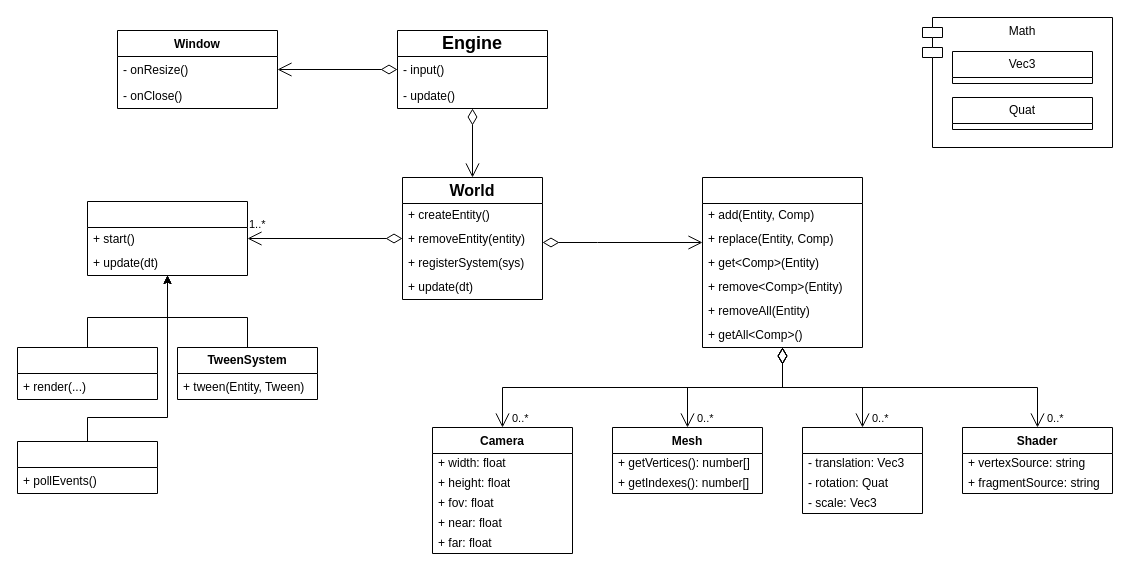
This 1130x571 diagram has some shape labels left out. The box of each missing label's shape, as (x1, y1, x2, y2) in pixels:
ComponentRegistry: (702, 176, 862, 348)
InputSystem: (16, 440, 158, 494)
Mesh RenderSystem: (16, 346, 158, 400)
System: (86, 200, 248, 276)
Transform: (802, 426, 922, 514)
